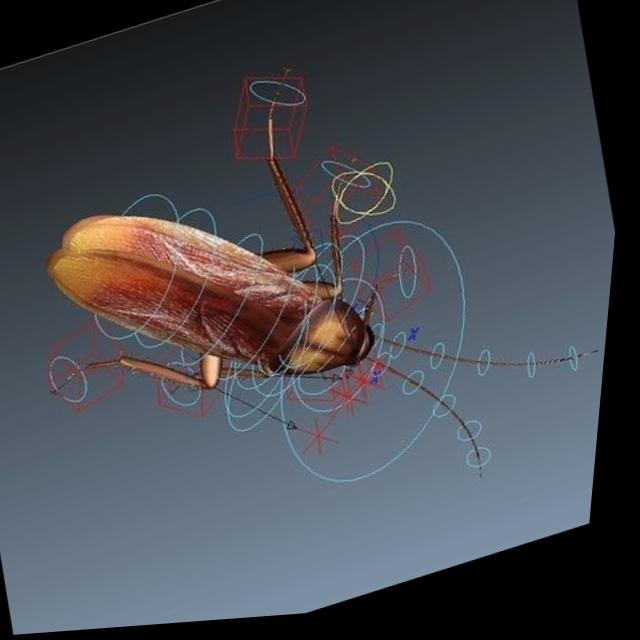Cockroach: (0, 0, 639, 636)
